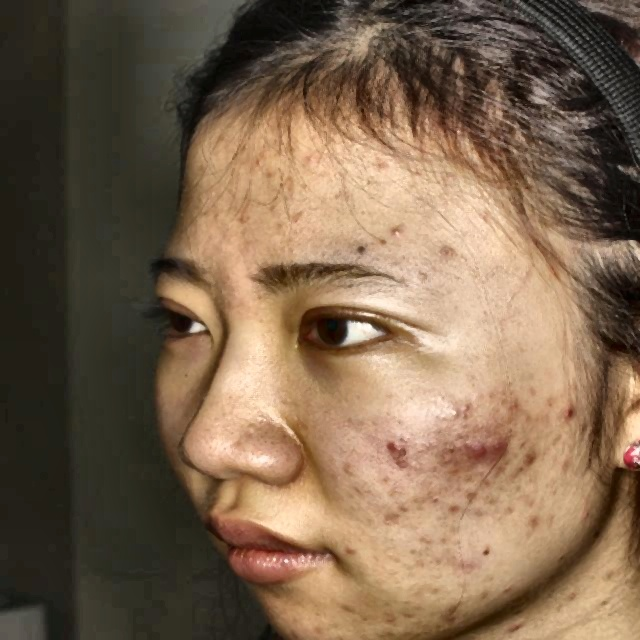pustule: (380, 222, 418, 252), (454, 434, 490, 459), (448, 397, 476, 424), (391, 454, 423, 476), (372, 437, 407, 455), (517, 451, 549, 468), (490, 434, 516, 452), (505, 396, 531, 412), (555, 398, 577, 416)
